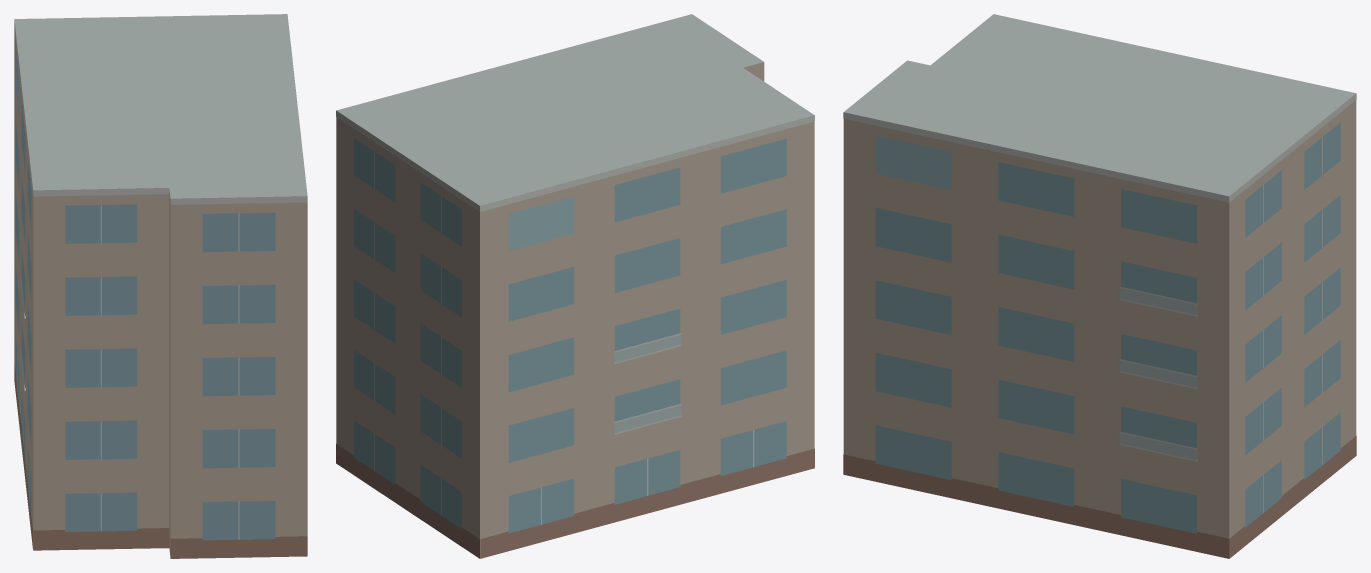
Rendered from survey-upis-32965035.glb.
3 renders of one model, left to right at view 1: azimuth 30°, elevation 25°; view 2: azimuth 150°, elevation 25°; view 3: azimuth 270°, elevation 25°, orthographic. The views are drawn at different scales.
Parts seen in each view (by area): view 1: survey-upis-32965035.tmp; view 2: survey-upis-32965035.tmp; view 3: survey-upis-32965035.tmp.
Boxes of the visible parts, x1,y1,x2,y2 form: survey-upis-32965035.tmp: (14,14,307,558); survey-upis-32965035.tmp: (336,14,814,558); survey-upis-32965035.tmp: (843,14,1356,558).
Bounding box in the file's own units: 15.12 × 14 × 17.96.
